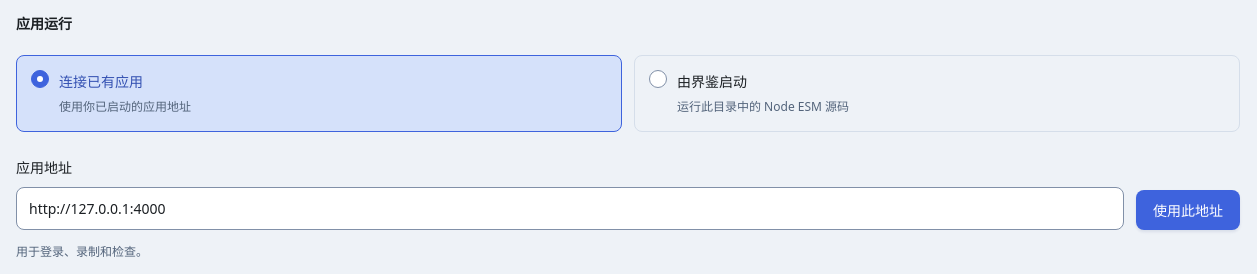
Test case: 切换运行方式保留草稿，不提交地址或启动进程
This screenshot has width=1257, height=274.
Replace the text in the field labelled "应用地址" with "http://127.0.0.1:5000" at (570, 209), box [16,187,1124,230]
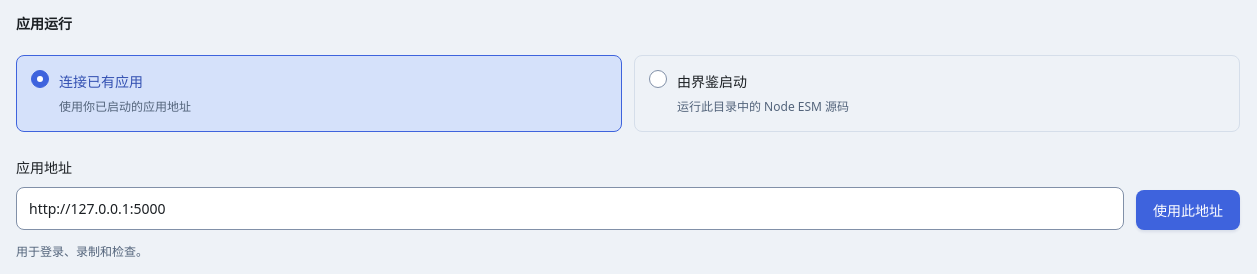
Click the radio button labelled "由界鉴启动" at (658, 79), box [649,70,667,88]
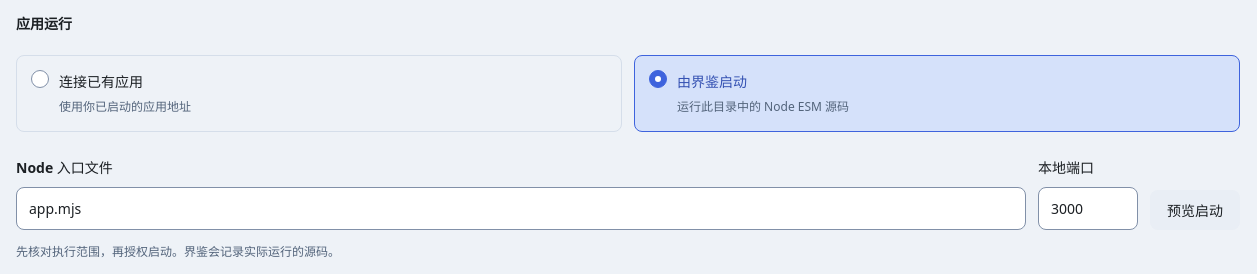
Replace the text in the field labelled "Node 入口文件" with "server.mjs" at (521, 209), box [16,187,1026,230]
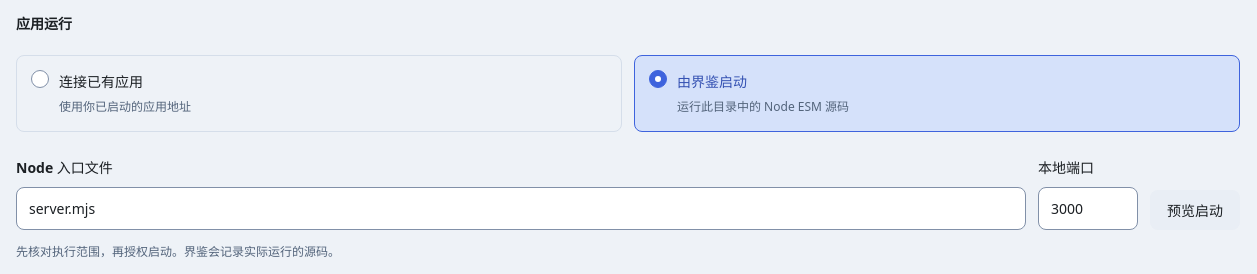
Click the radio button labelled "连接已有应用" at (40, 79), box [31,70,49,88]
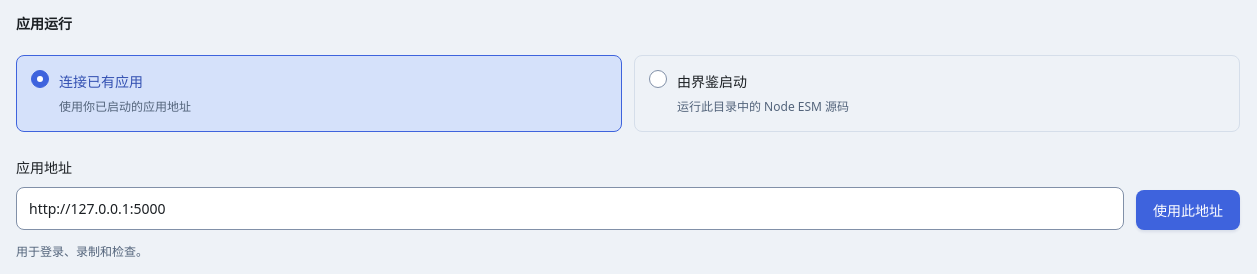
Expected: the field labelled "应用地址" holds "http://127.0.0.1:5000", [16,187,1124,230]
Click the radio button labelled "由界鉴启动" at (658, 79), box [649,70,667,88]
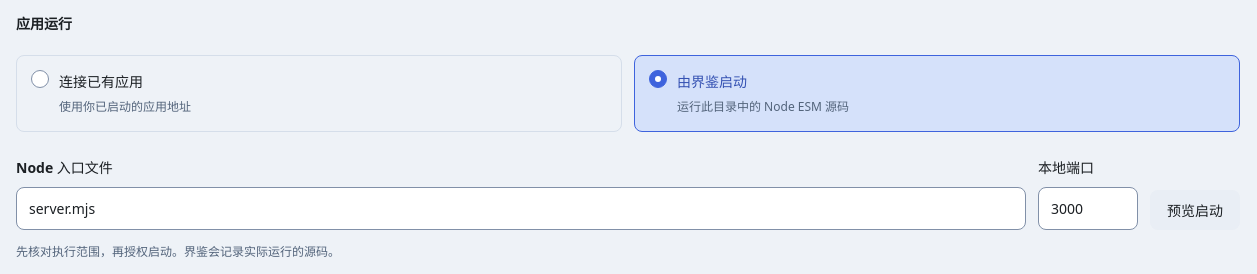
Expected: the field labelled "Node 入口文件" holds "server.mjs", [16,187,1026,230]
